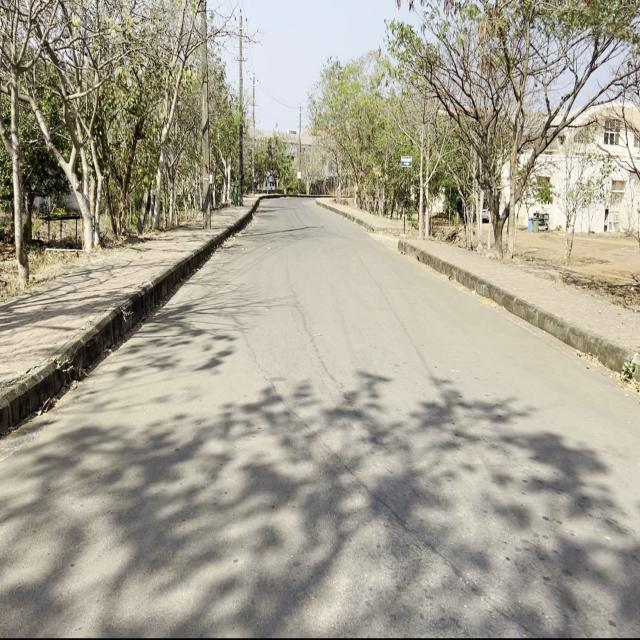Road: (3, 197, 637, 633)
